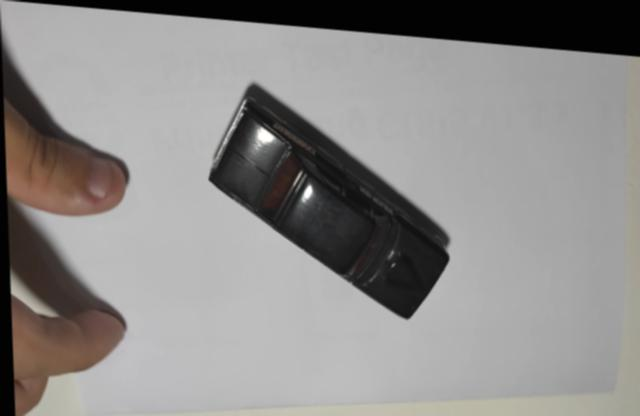01_FORD: (206, 76, 450, 311)
